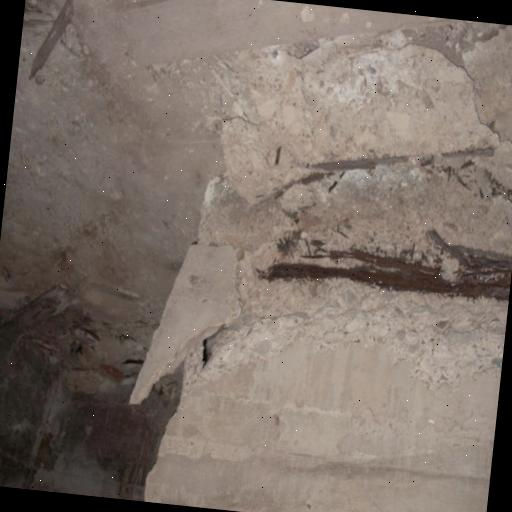spalling: (195, 158, 512, 387)
